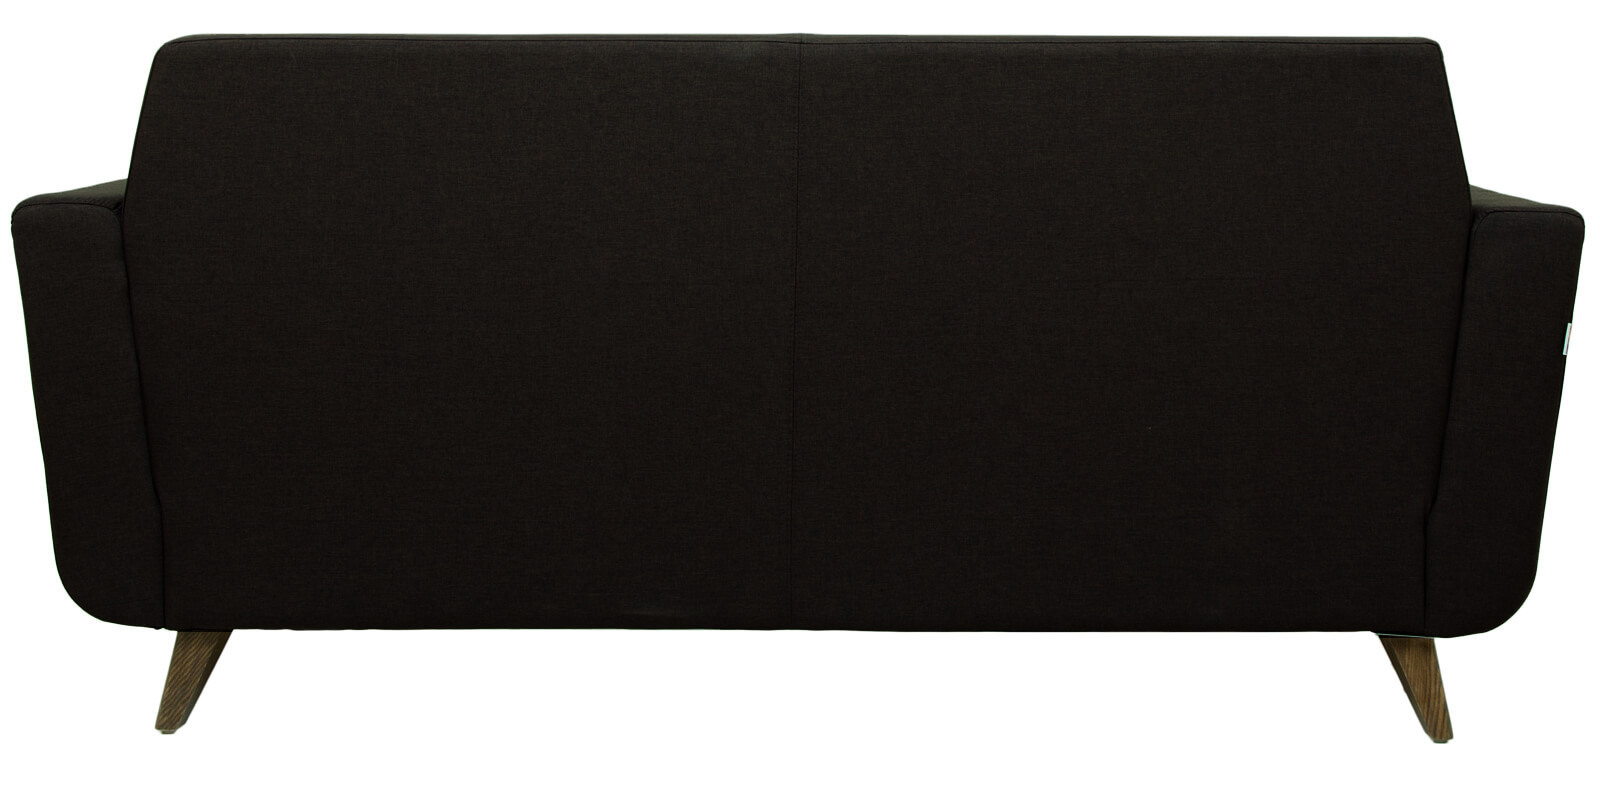Brass Three Seater Sofa in Dark Grey Colour by Furniture Mind: (6, 28, 1600, 694)
